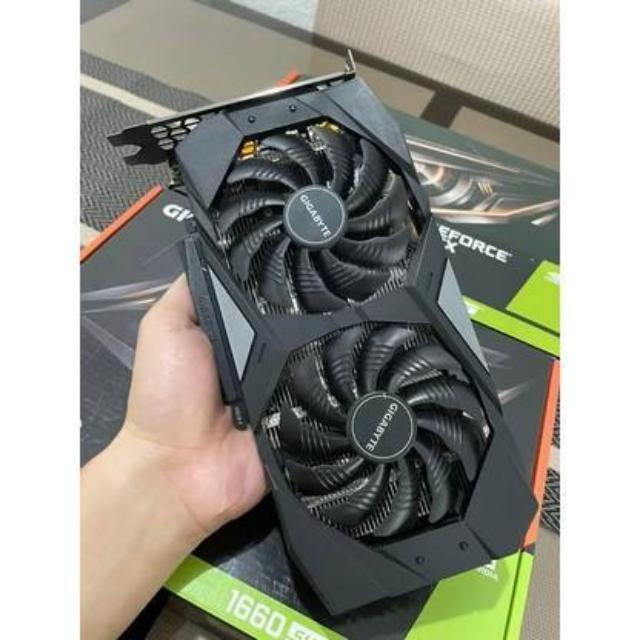GPU: (136, 49, 542, 624)
